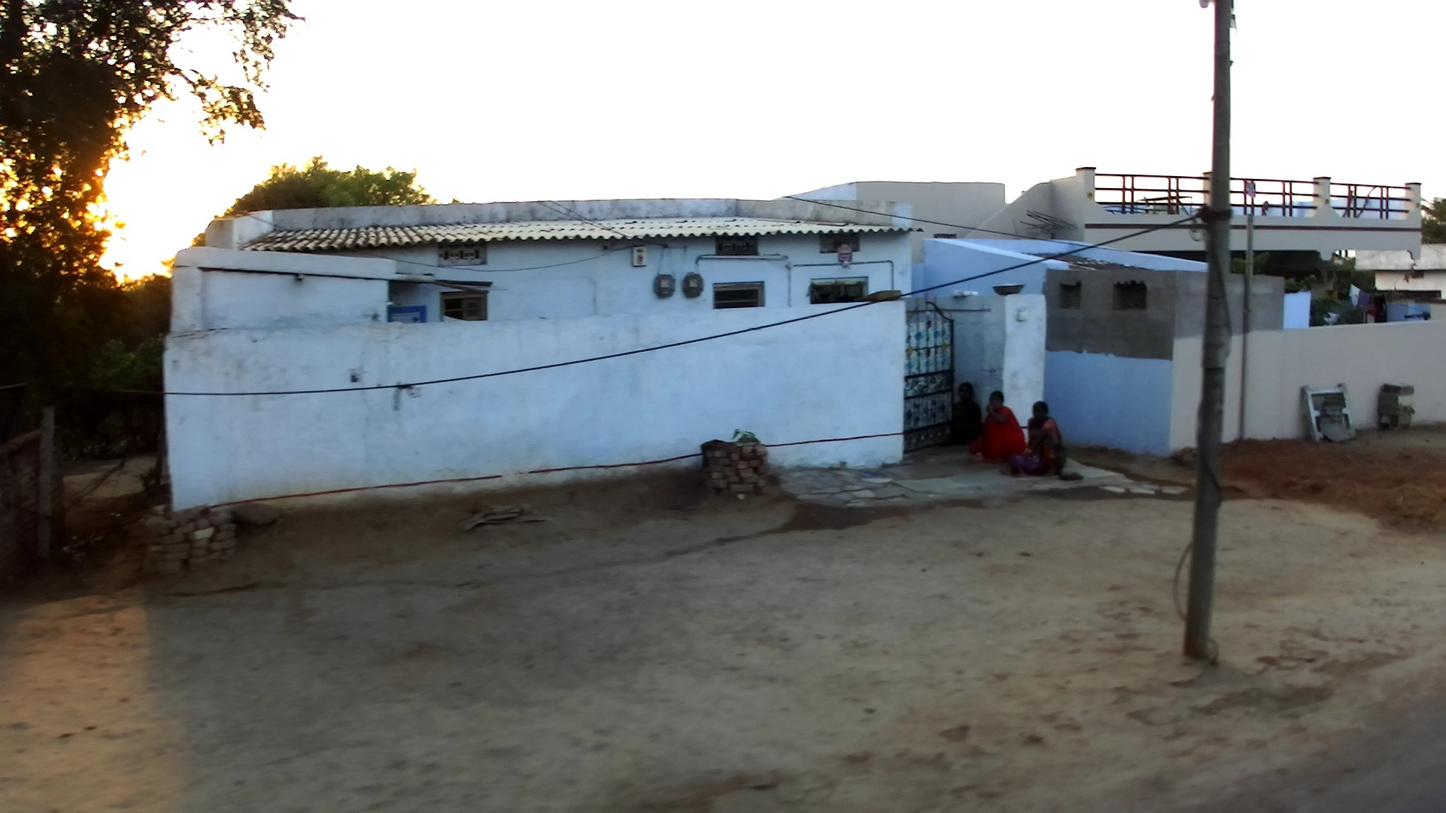person: (999, 400, 1066, 479), (969, 390, 1027, 464), (943, 379, 983, 449)
